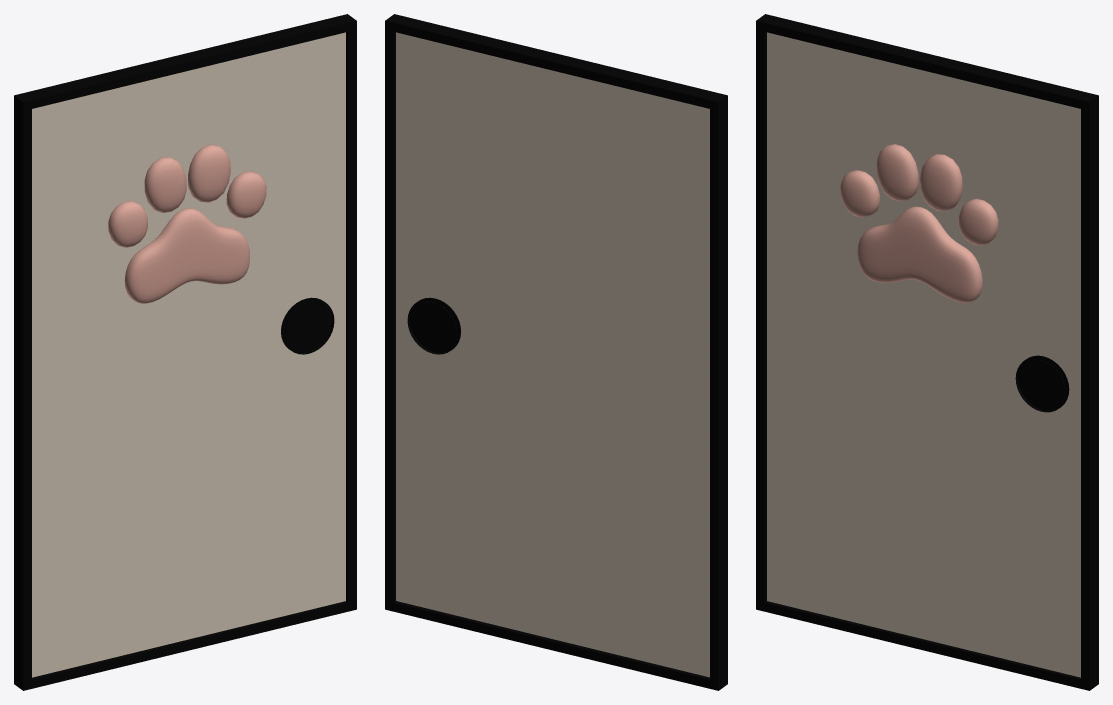
File: door.gltf
3 views of the same model, side by side, from view 1: azimuth 30°, elevation 25°; view 2: azimuth 150°, elevation 25°; view 3: azimuth 330°, elevation 25° (orthographic).
Parts seen in each view (by area): view 1: Cube.032; view 2: Cube.032; view 3: Cube.032.
Part boxes in pixels (bbox=[...]): Cube.032: bbox=[14, 14, 356, 690]; Cube.032: bbox=[385, 14, 727, 690]; Cube.032: bbox=[756, 14, 1098, 690].
Size of the model in its own units: 0.8373 by 1.41 by 0.0659.
Materials: 3 (1 with a texture image).
